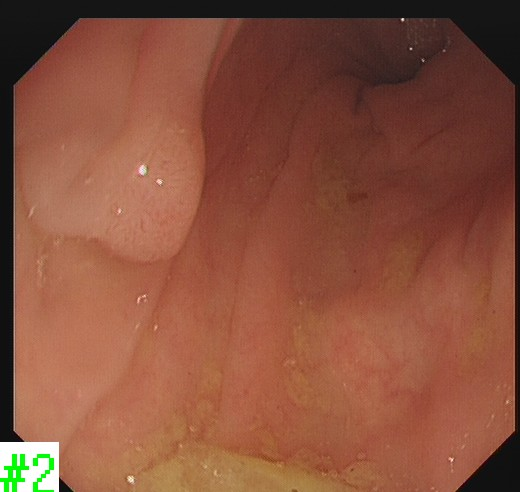adenoma: (104, 119, 206, 265)
